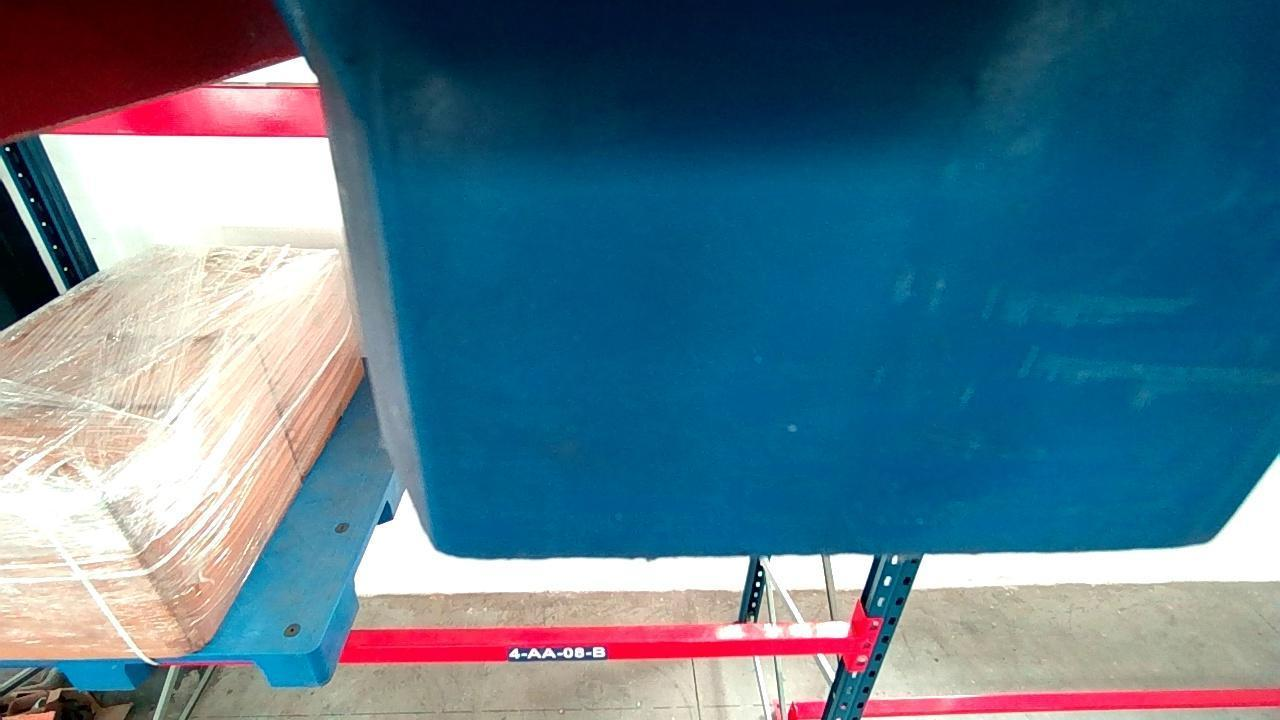h_rack: (341, 636, 860, 665), (46, 87, 329, 138)
small_pallet: (0, 650, 320, 691)
